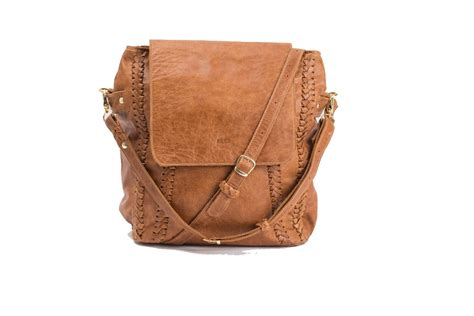cuero: (99, 36, 339, 247)
